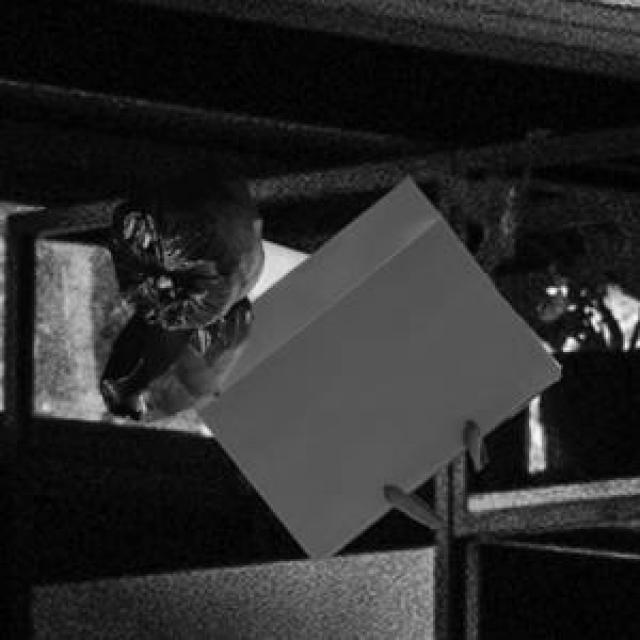miscellaneous trash: (96, 164, 260, 418)
paper: (188, 173, 557, 559), (243, 237, 305, 299)
